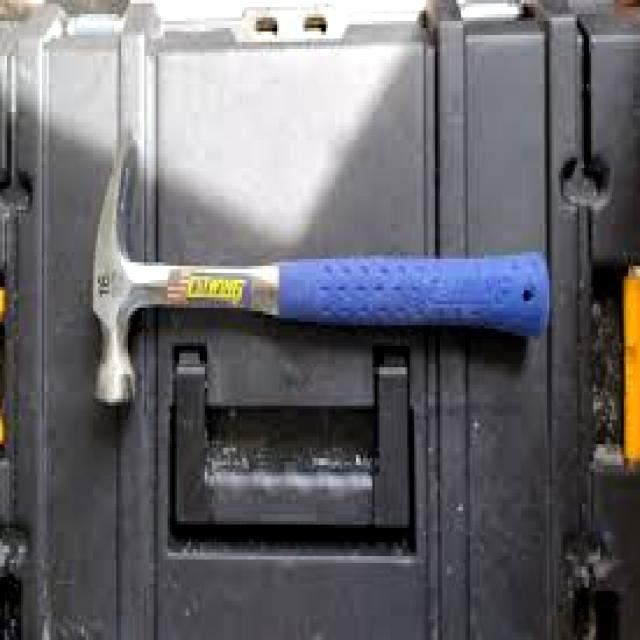hammer: (80, 122, 564, 424)
